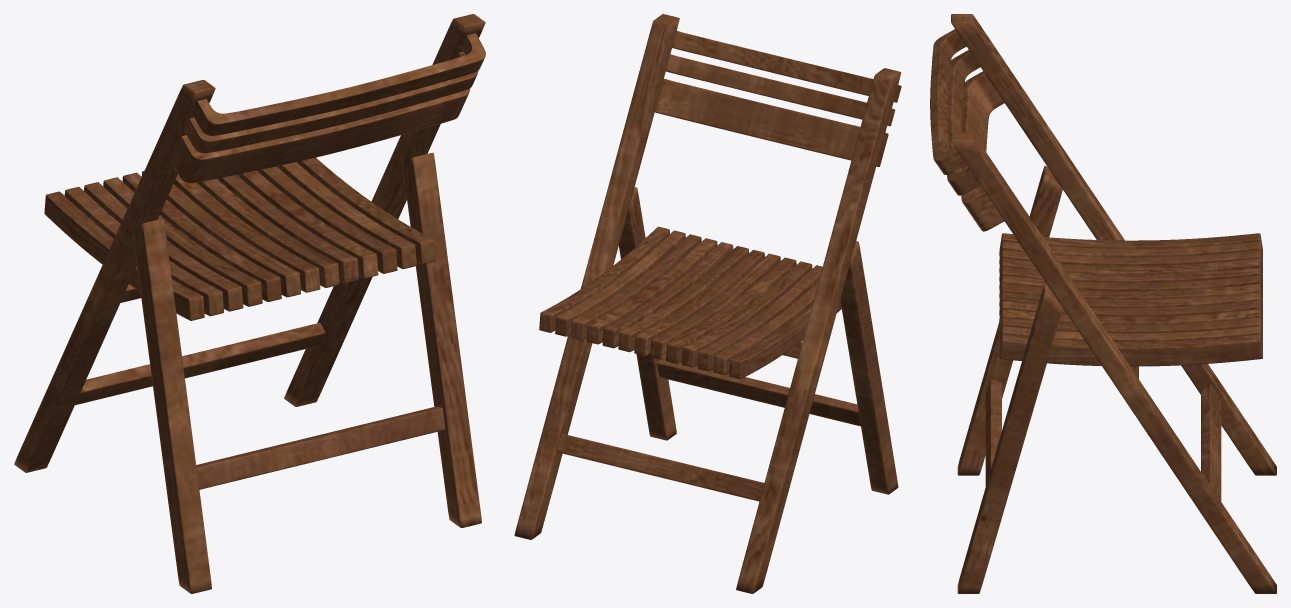
The model's file is Chair37.glb.
3 views of the same model, side by side, from view 1: azimuth 30°, elevation 25°; view 2: azimuth 150°, elevation 25°; view 3: azimuth 270°, elevation 25° (orthographic). The views are drawn at different scales.
Parts seen in each view (by area): view 1: Chair37_model; view 2: Chair37_model; view 3: Chair37_model.
Part boxes in pixels (x1,y1,x2,y2): Chair37_model: (14, 14, 485, 593); Chair37_model: (514, 14, 901, 593); Chair37_model: (930, 14, 1276, 593).
Size of the model in its own units: 0.9718 by 1.61 by 1.11.
1 material, 1 textured.
